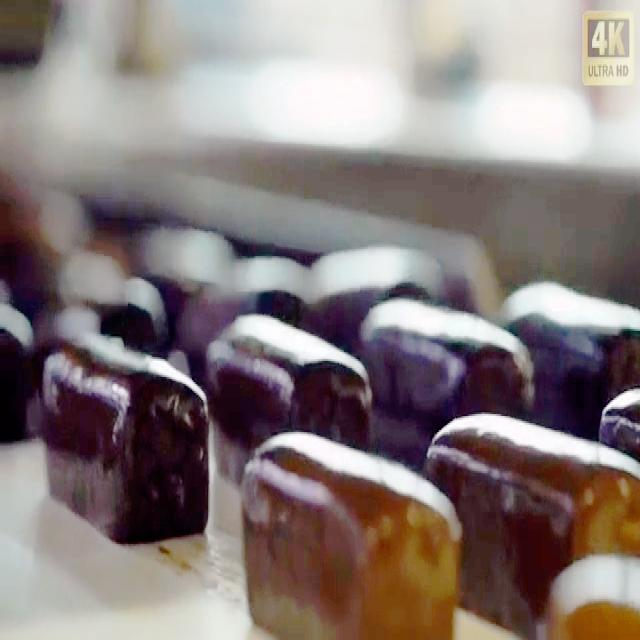Choco: (424, 405, 638, 635), (238, 425, 462, 635), (38, 322, 211, 544), (204, 306, 373, 484), (362, 291, 536, 454), (502, 276, 636, 430)
